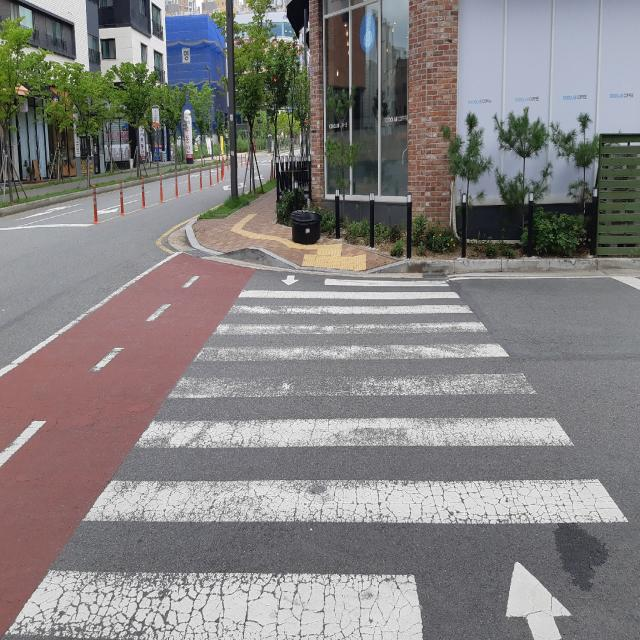횡단보도: (8, 272, 629, 640)
